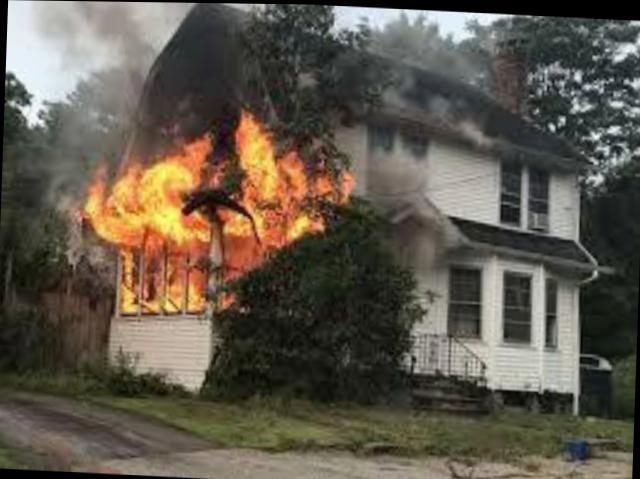fire: (68, 126, 346, 334)
